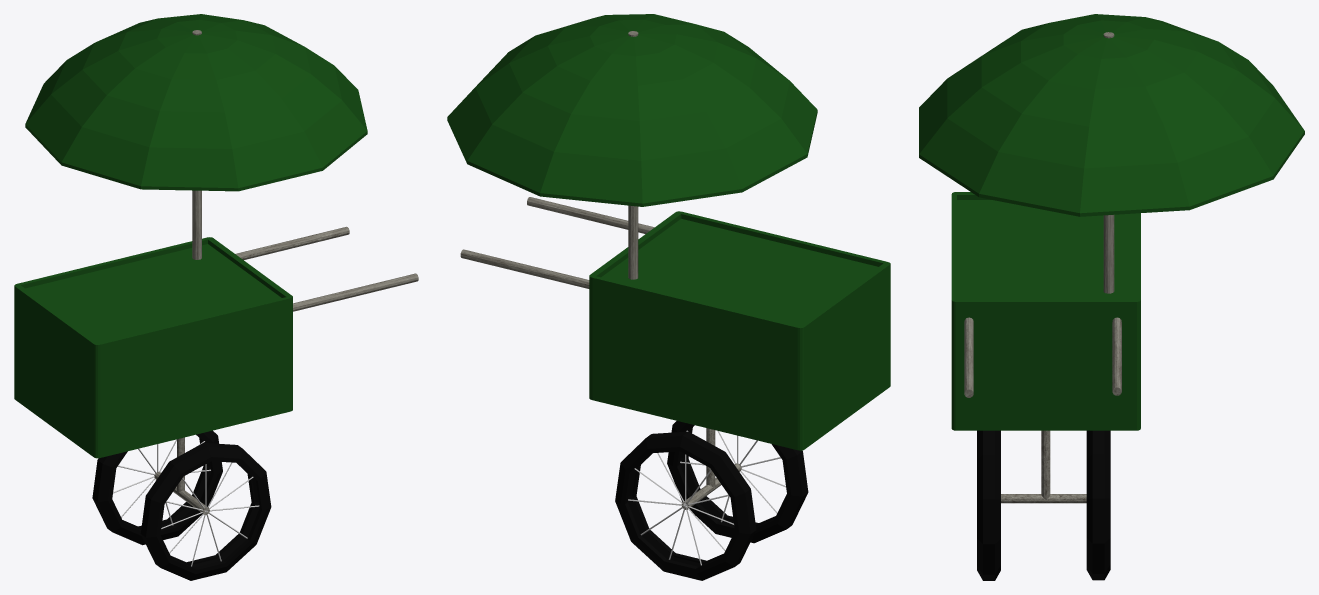
The model's file is Carrinho de venda.fbx.
3 renders of one model, left to right at view 1: azimuth 30°, elevation 25°; view 2: azimuth 150°, elevation 25°; view 3: azimuth 270°, elevation 25°, orthographic. The views are drawn at different scales.
Visible parts, largest first — view 1: Caixa, Guarda Chuva, Roda Esquerda 2, Roda Direita 2, Madeira Segurar Esquerda, Aros Esquerda, Madeira Segurar Direita, Madeira guarda chuva, Aros Direita; view 2: Caixa, Guarda Chuva, Roda Direita 2, Roda Esquerda 2, Madeira Segurar Direita, Aros Direita, Madeira Segurar Esquerda, Madeira guarda chuva, Aros Esquerda; view 3: Guarda Chuva, Caixa, Roda Direita 2, Roda Esquerda 2, Madeira guarda chuva, Madeira entre rodas 1, Madeira Segurar Esquerda, Madeira Segurar Direita, Madeira entre rodas 2.
Boxes of the visible parts, x1=… form: Caixa: x1=14, y1=237, x2=292, y2=458; Guarda Chuva: x1=25, y1=14, x2=367, y2=191; Roda Esquerda 2: x1=140, y1=443, x2=271, y2=580; Roda Direita 2: x1=92, y1=430, x2=222, y2=545; Madeira Segurar Esquerda: x1=293, y1=273, x2=418, y2=311; Aros Esquerda: x1=161, y1=462, x2=259, y2=566; Madeira Segurar Direita: x1=235, y1=226, x2=349, y2=259; Madeira guarda chuva: x1=192, y1=30, x2=201, y2=259; Aros Direita: x1=113, y1=439, x2=210, y2=525; Caixa: x1=589, y1=211, x2=890, y2=450; Guarda Chuva: x1=447, y1=14, x2=817, y2=206; Roda Direita 2: x1=615, y1=431, x2=756, y2=580; Roda Esquerda 2: x1=667, y1=421, x2=808, y2=543; Madeira Segurar Direita: x1=460, y1=249, x2=589, y2=288; Aros Direita: x1=628, y1=453, x2=733, y2=565; Madeira Segurar Esquerda: x1=527, y1=197, x2=654, y2=233; Madeira guarda chuva: x1=628, y1=31, x2=638, y2=279; Aros Esquerda: x1=680, y1=430, x2=785, y2=522; Guarda Chuva: x1=919, y1=14, x2=1304, y2=216; Caixa: x1=951, y1=192, x2=1140, y2=430; Roda Direita 2: x1=1086, y1=430, x2=1110, y2=580; Roda Esquerda 2: x1=977, y1=430, x2=1000, y2=580; Madeira guarda chuva: x1=1103, y1=32, x2=1114, y2=293; Madeira entre rodas 1: x1=1001, y1=494, x2=1086, y2=503; Madeira Segurar Esquerda: x1=964, y1=317, x2=973, y2=397; Madeira Segurar Direita: x1=1112, y1=317, x2=1121, y2=395; Madeira entre rodas 2: x1=1041, y1=430, x2=1050, y2=499.
Bounding box in the file's own units: 182 × 261 × 163.
